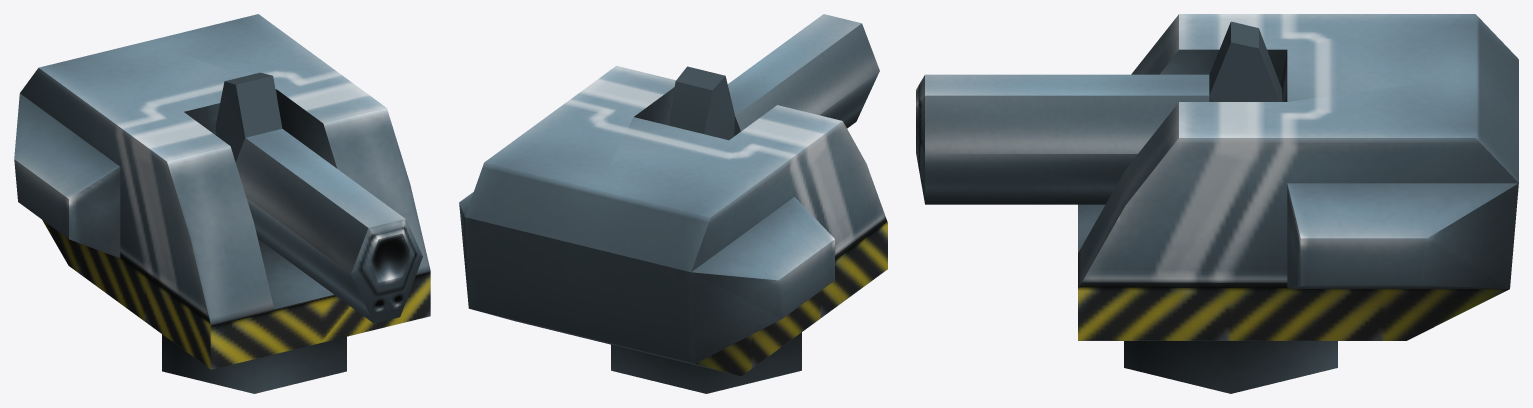
File: Turret-01.FBX
3 renders of one model, left to right at view 1: azimuth 30°, elevation 25°; view 2: azimuth 150°, elevation 25°; view 3: azimuth 270°, elevation 25°, orthographic. The views are drawn at different scales.
Visible parts, largest first — view 1: turret1, turret1gun; view 2: turret1, turret1gun; view 3: turret1, turret1gun.
Boxes of the visible parts, x1=… form: turret1: x1=14, y1=14, x2=430, y2=393; turret1gun: x1=215, y1=72, x2=422, y2=323; turret1: x1=459, y1=66, x2=887, y2=393; turret1gun: x1=669, y1=14, x2=879, y2=140; turret1: x1=1078, y1=14, x2=1518, y2=393; turret1gun: x1=916, y1=21, x2=1281, y2=204.
Size of the model in its own units: 120 by 98.99 by 175.
